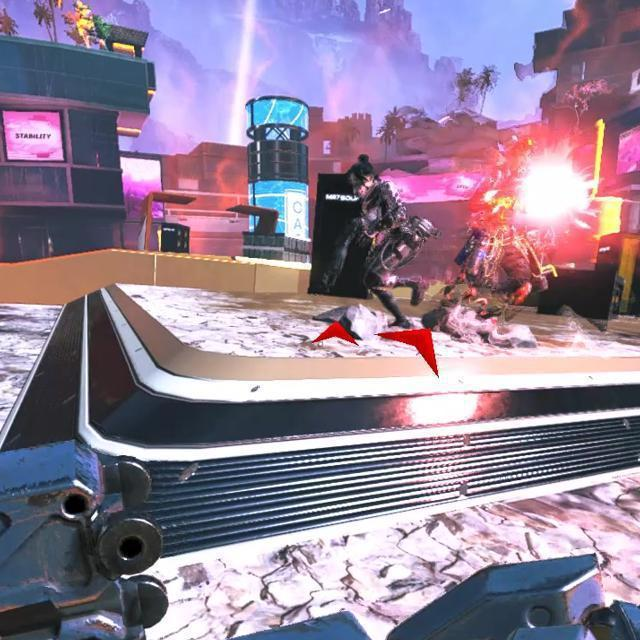avatar: (342, 151, 429, 331)
object: (506, 150, 594, 240)
